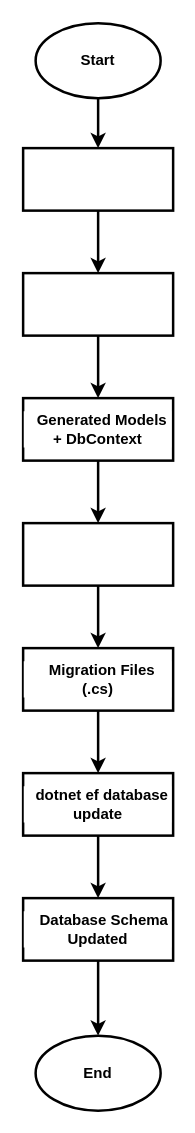
This 195x1133 diagram has some shape labels left out. Each missing label, with the centre of its shape:
"dotnet ef dbcontext scaffold" goes at (x=97, y=303).
"dotnet ef migrations add InitialCreate" goes at (x=97, y=553).
"Existing Database" goes at (x=97, y=178).
